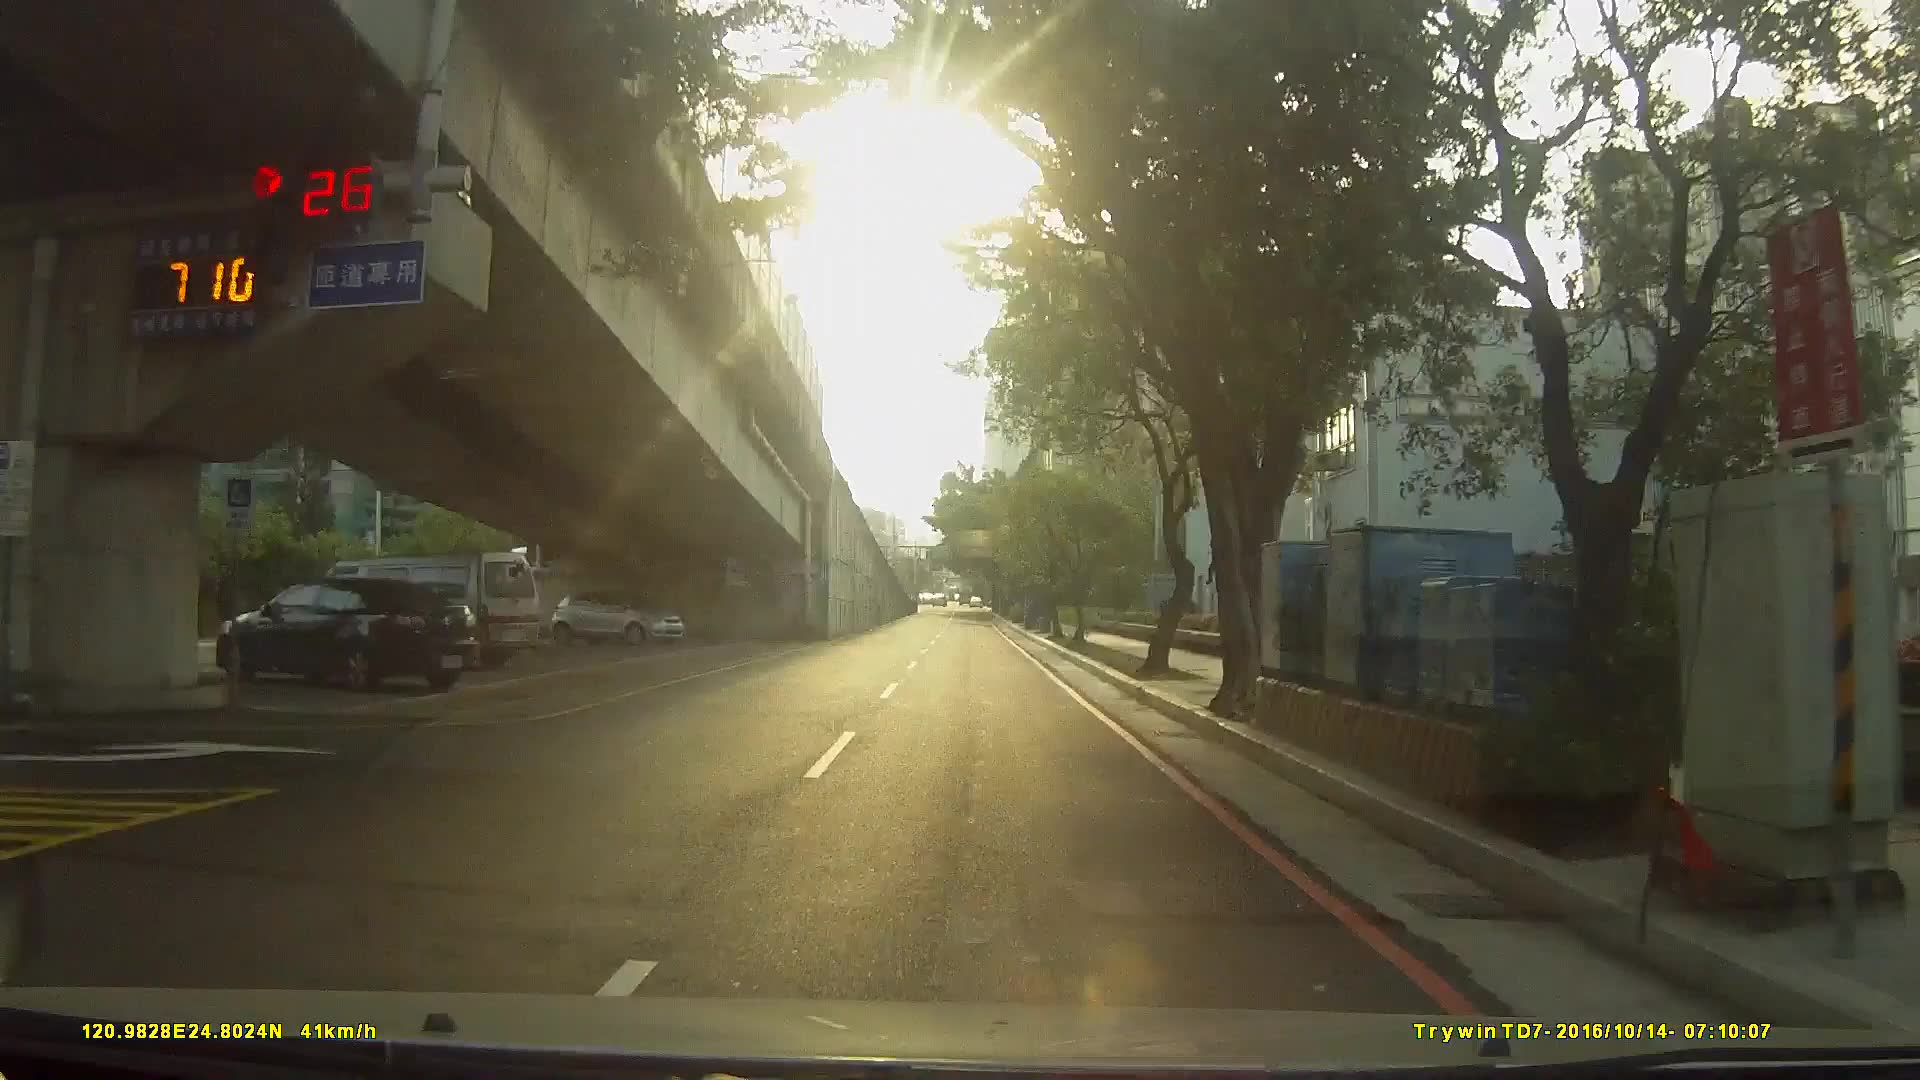vehicle: (203, 574, 497, 698), (289, 551, 546, 686), (545, 587, 683, 649)
